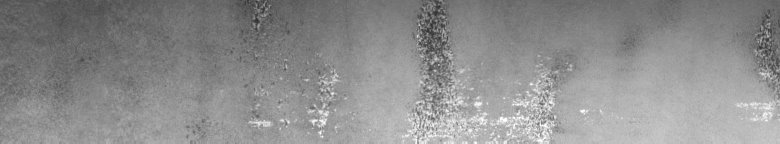hc: (405, 4, 602, 136)
